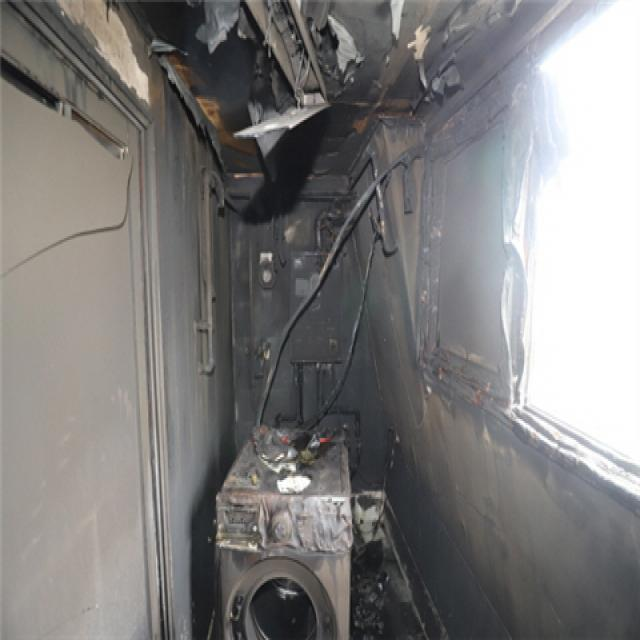Boiler: (280, 241, 348, 377)
